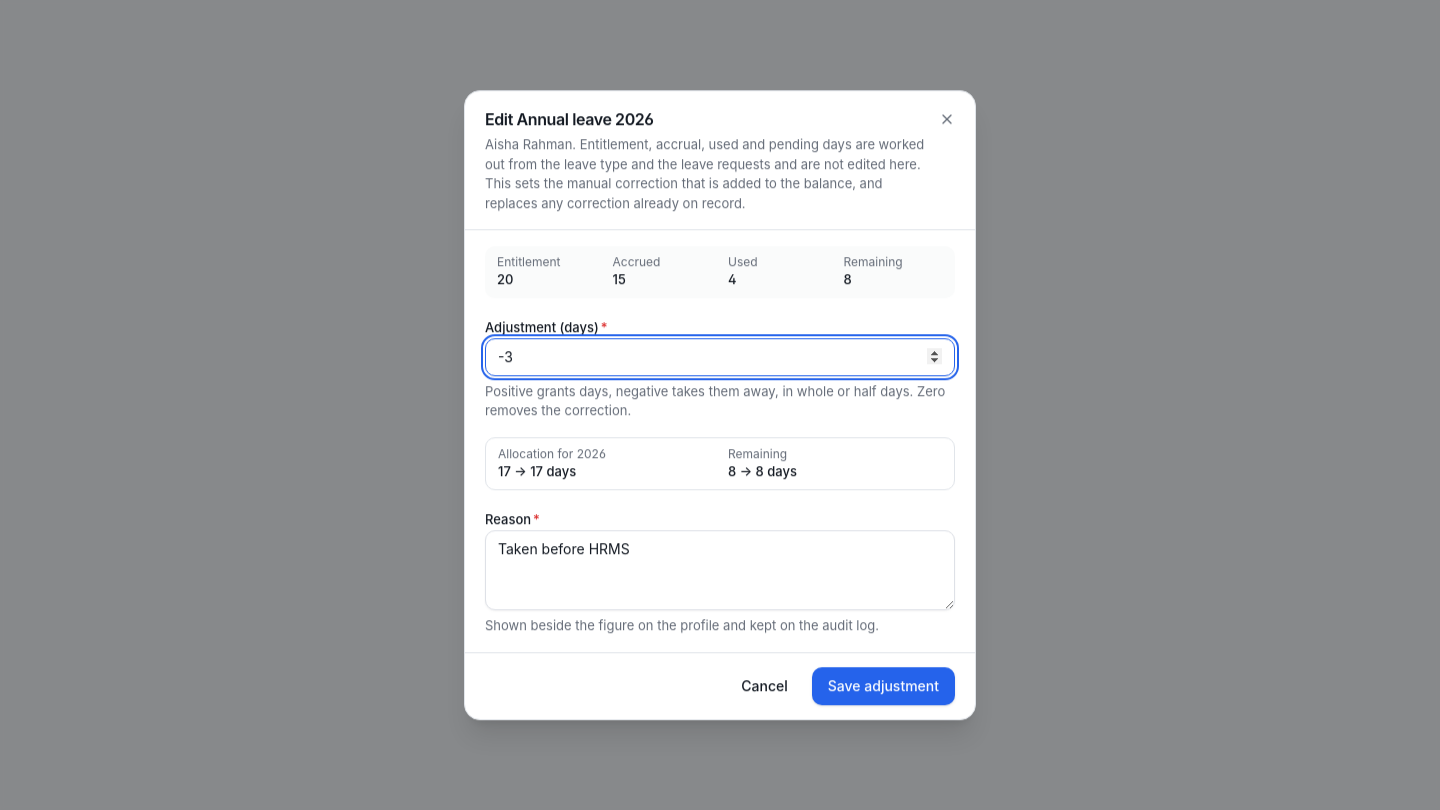
Test: LeaveAdjustmentDialog › refuses to save without a reason and calls nothing
The width and height of the screenshot is (1440, 810).
Clear the text box labelled "Reason*": (720, 570) [485,530,955,610]
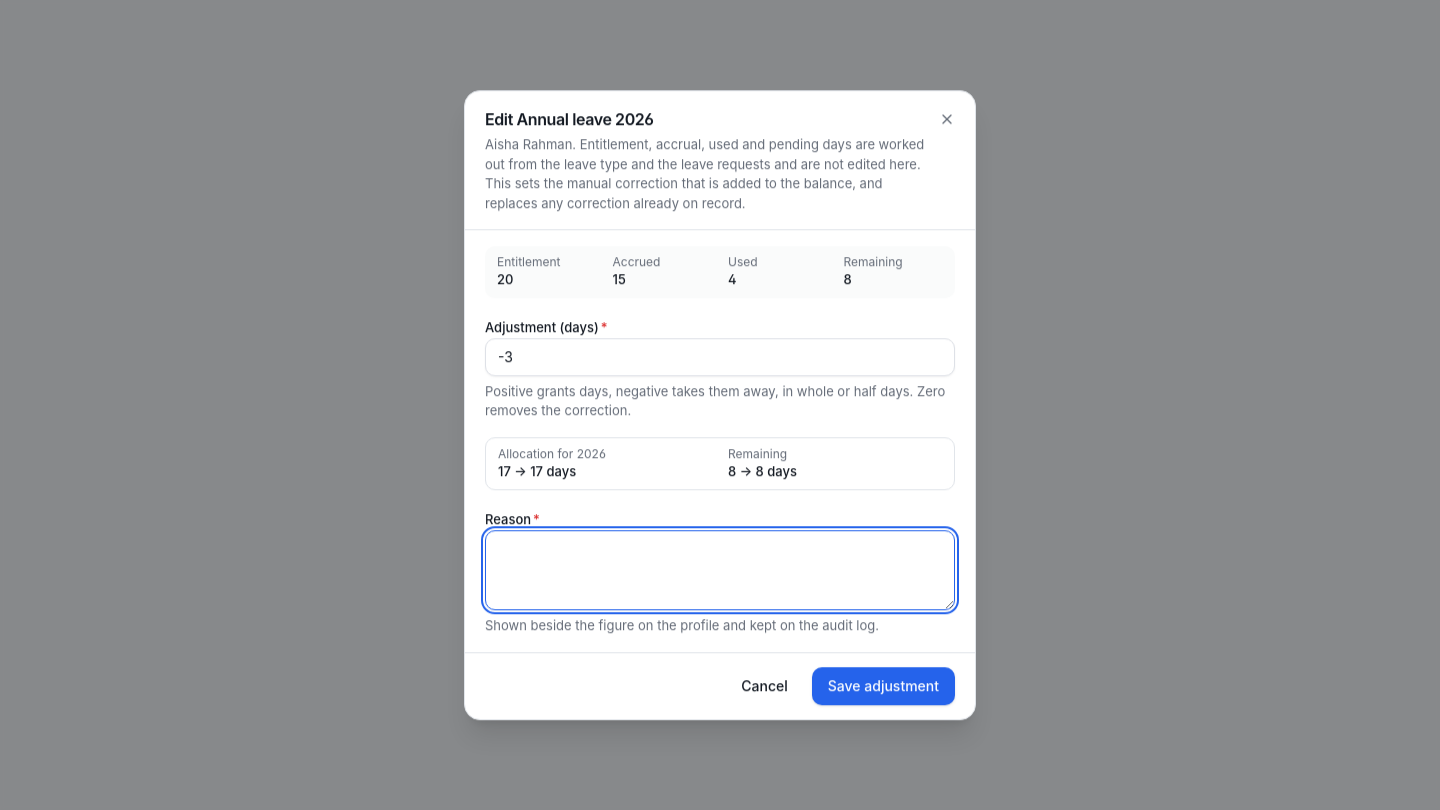
Click the button "Save adjustment": (883, 686) [812,667,955,705]
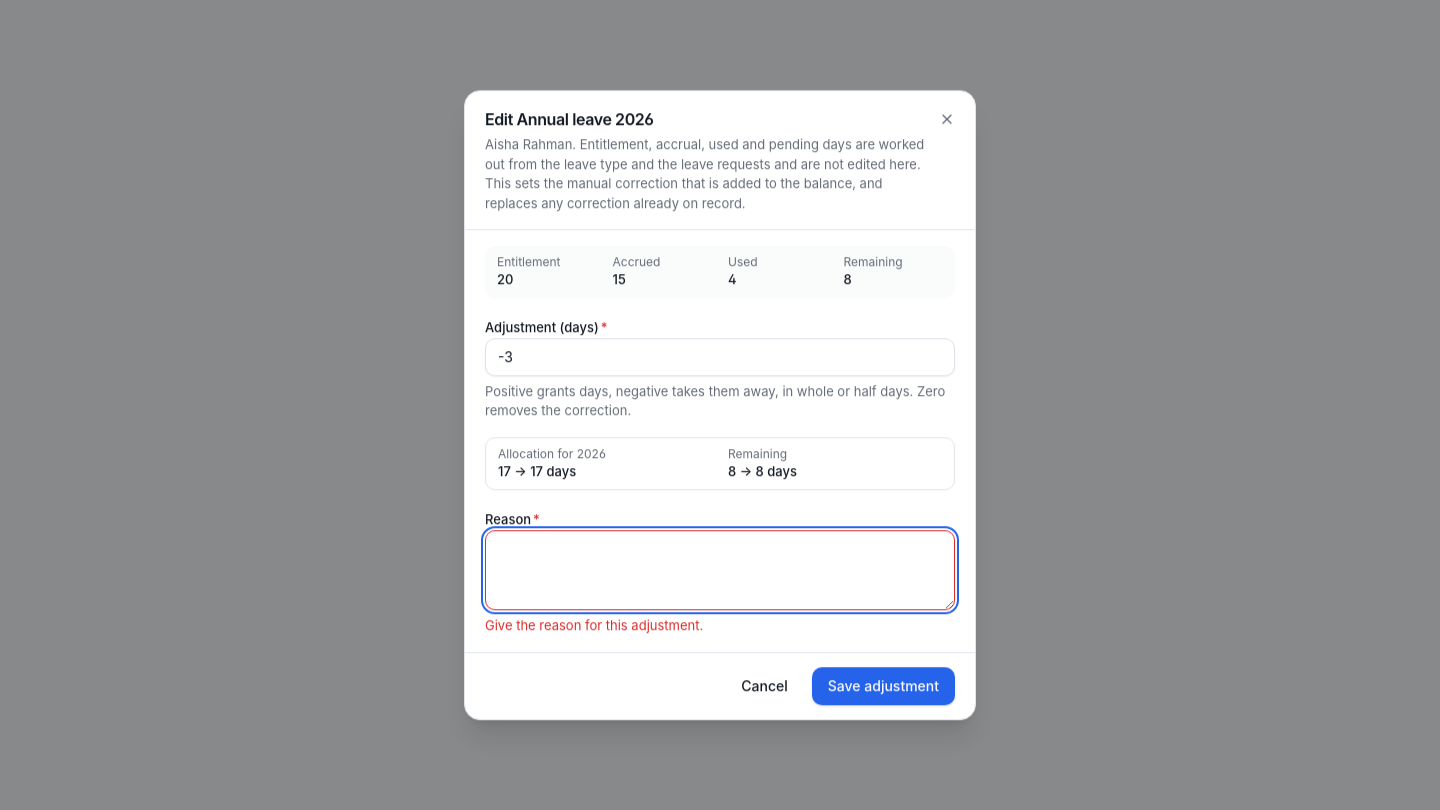
Result: the text "Give the reason for this adjustment." is shown at [485,617,703,633]
